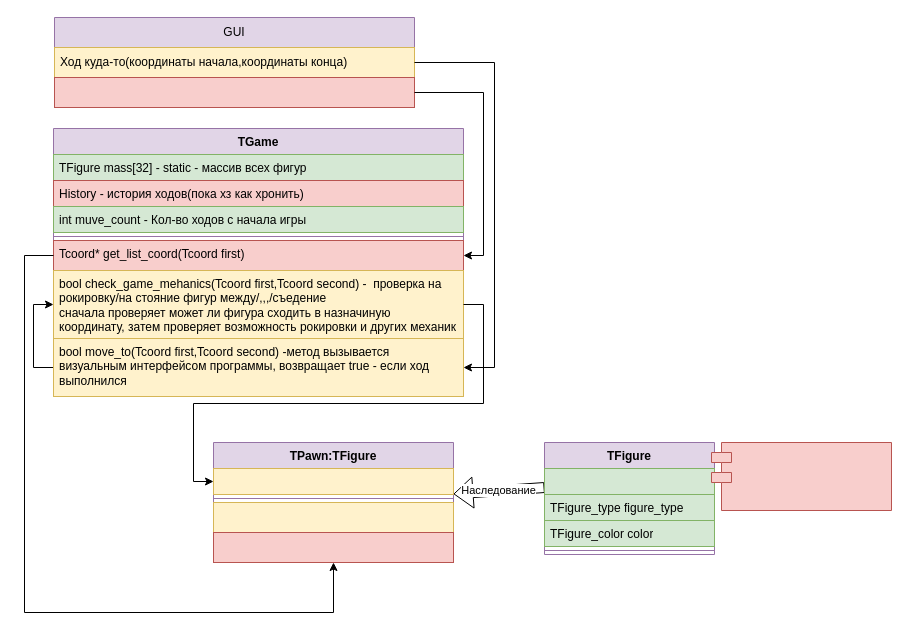
Some shapes in this 909 by 638 pixel diagram are drawn without their labels. Here are the shapes that lost their labels. From the top down, the centre of each, then its label:
At [234,92]: "Подсветка хода(координаты точки)".
At [333,481]: "bool проверка(Tcoord)".
At [629,481]: "TCoord coord".
At [801,476]: "Доп примочки 1- поставить флаг на существование".
At [333,517]: "void move_to(Tcoord tmp)".
At [333,547]: "Tcoord* possible_moves(Tcoord first)".
